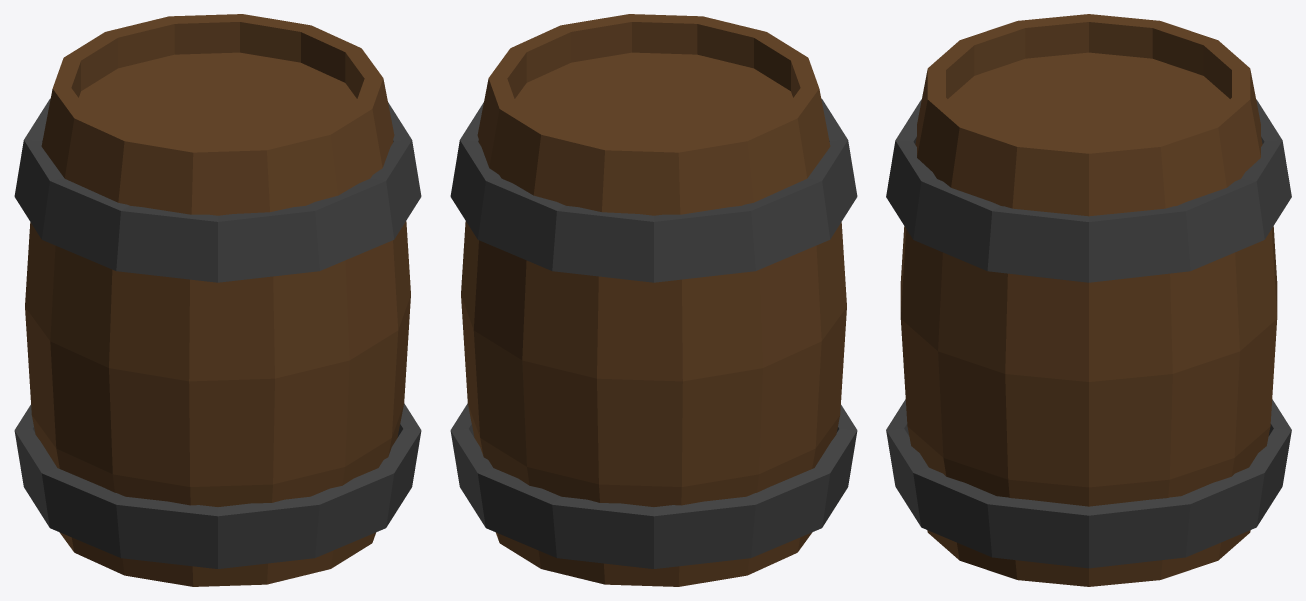
The model's file is SM_barell.fbx.
The picture shows the model from 3 angles, left to right: view 1: azimuth 30°, elevation 25°; view 2: azimuth 150°, elevation 25°; view 3: azimuth 270°, elevation 25°; orthographic projection.
Visible parts, largest first — view 1: Cylinder072; view 2: Cylinder072; view 3: Cylinder072.
Part boxes in pixels (x1,y1,x2,y2): Cylinder072: (14,14,421,586); Cylinder072: (450,14,857,586); Cylinder072: (886,14,1291,586).
Size of the model in its own units: 34.48 by 40.61 by 34.48.
